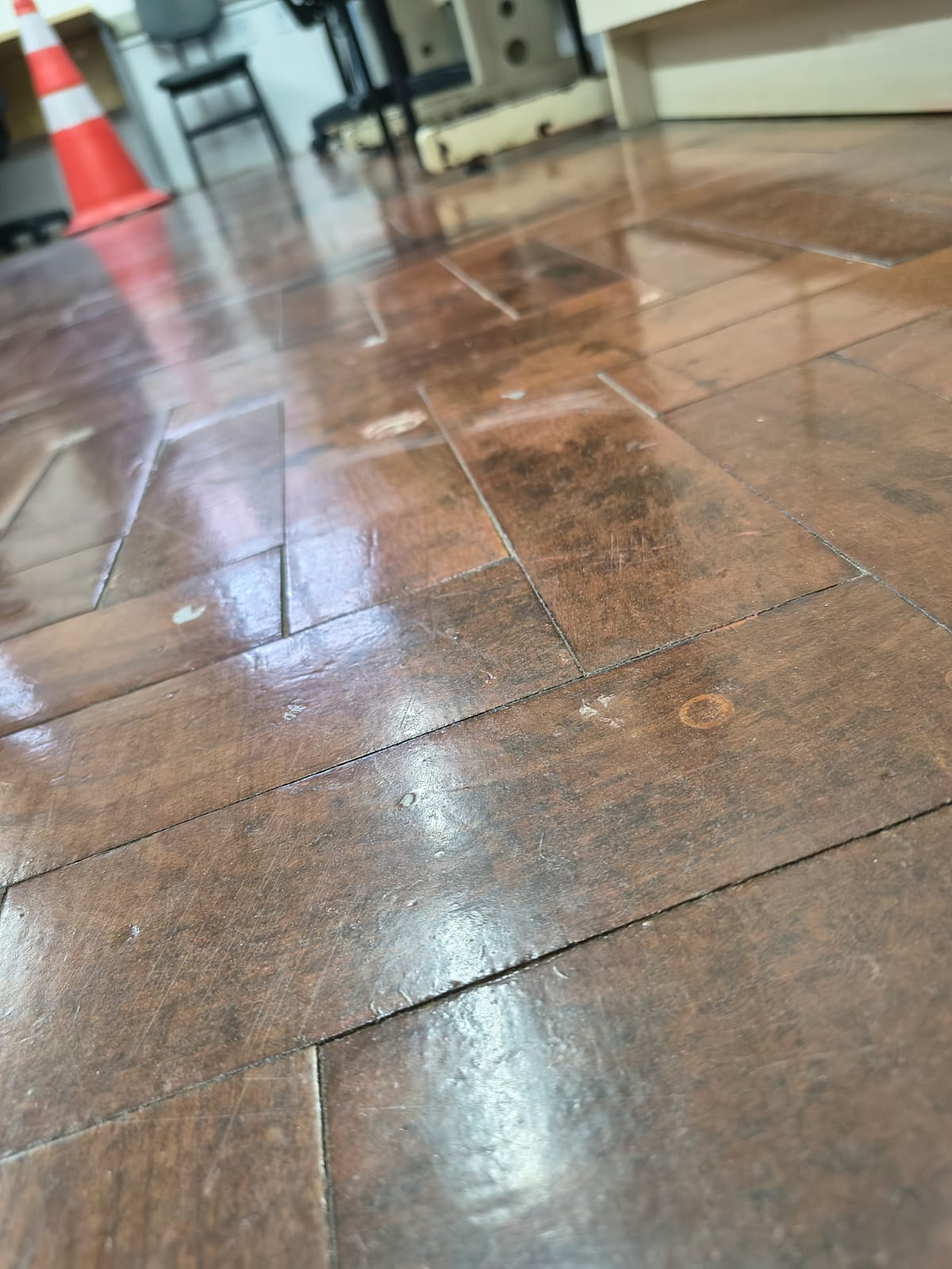cone: (11, 8, 195, 263)
